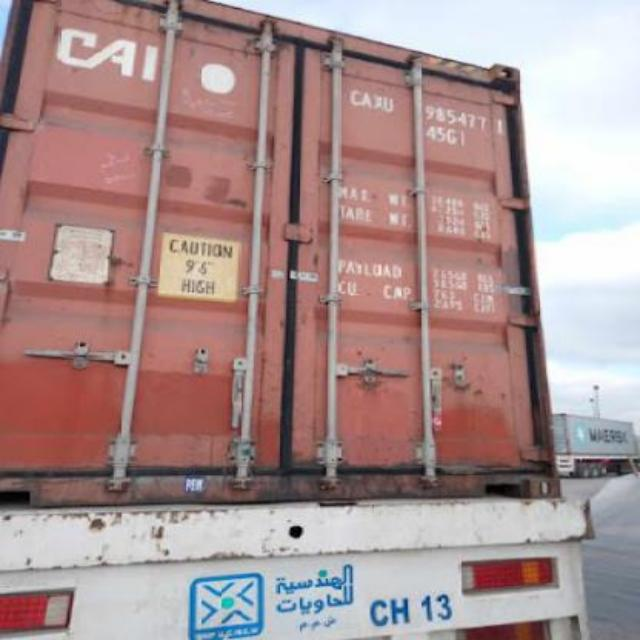1: (494, 117, 504, 135)
4: (454, 110, 470, 126)
5: (446, 107, 456, 123)
7: (478, 114, 488, 130), (468, 111, 476, 127)
8: (436, 108, 446, 120)
9: (424, 105, 434, 118)
A: (362, 88, 374, 110)
C: (346, 89, 362, 107)
U: (382, 94, 396, 114)
X: (374, 92, 382, 112)
